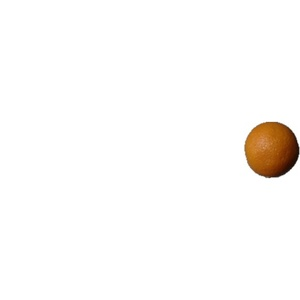laranja: (243, 123, 299, 179)
